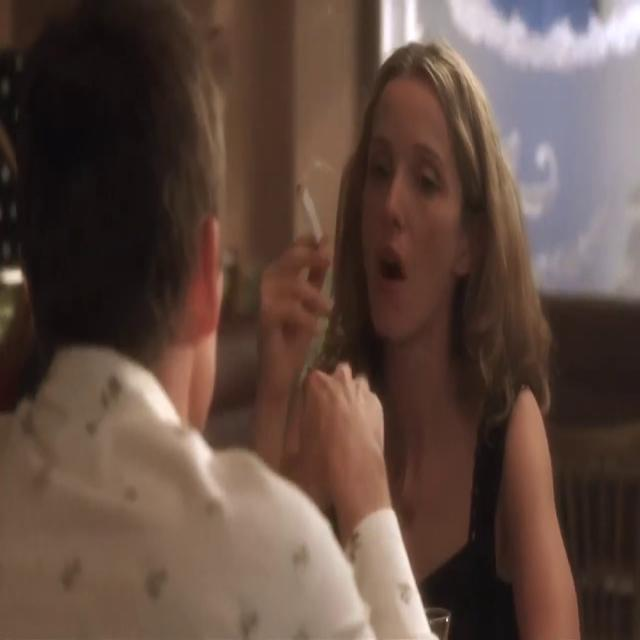Smooking: (292, 181, 328, 249)
